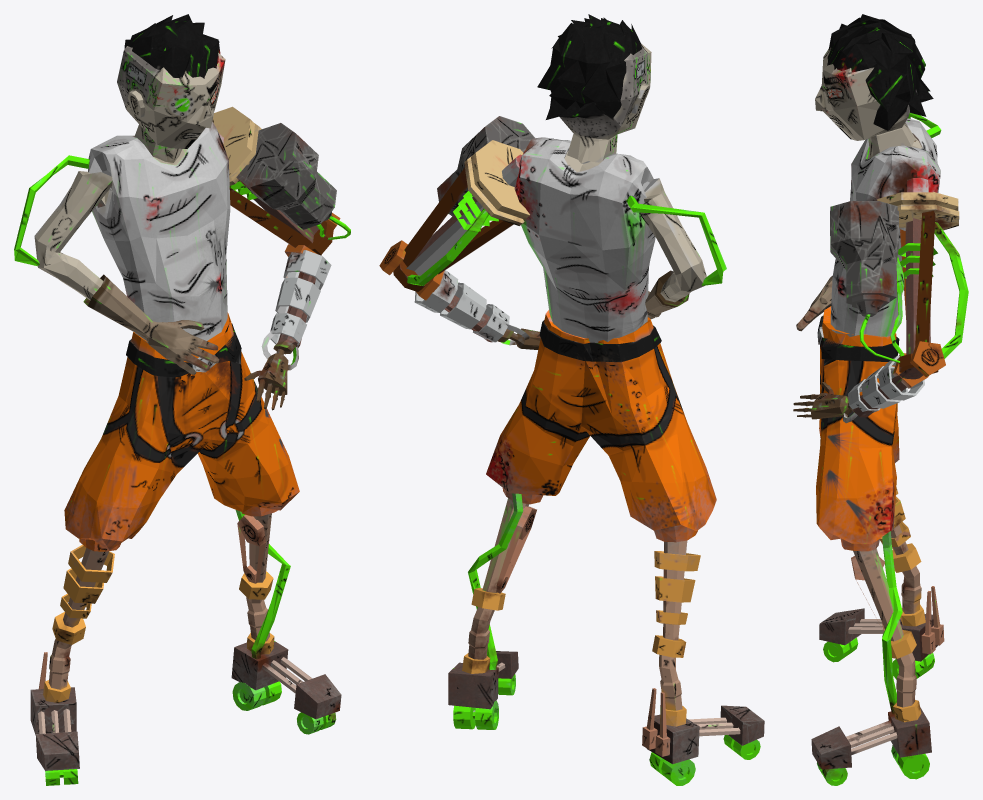
Rendered from CyborgFINALAnimation_000070.obj.
3 views of the same model, side by side, from view 1: azimuth 30°, elevation 25°; view 2: azimuth 150°, elevation 25°; view 3: azimuth 270°, elevation 25° (orthographic). The views are drawn at different scales.
Parts seen in each view (by area): view 1: CyborgMesh_Cube.002; view 2: CyborgMesh_Cube.002; view 3: CyborgMesh_Cube.002.
Part boxes in pixels (bbox=[...]): CyborgMesh_Cube.002: bbox=[14, 14, 350, 785]; CyborgMesh_Cube.002: bbox=[379, 14, 764, 785]; CyborgMesh_Cube.002: bbox=[793, 14, 968, 785].
Bounding box in the file's own units: 4.69 × 9.58 × 2.17.
